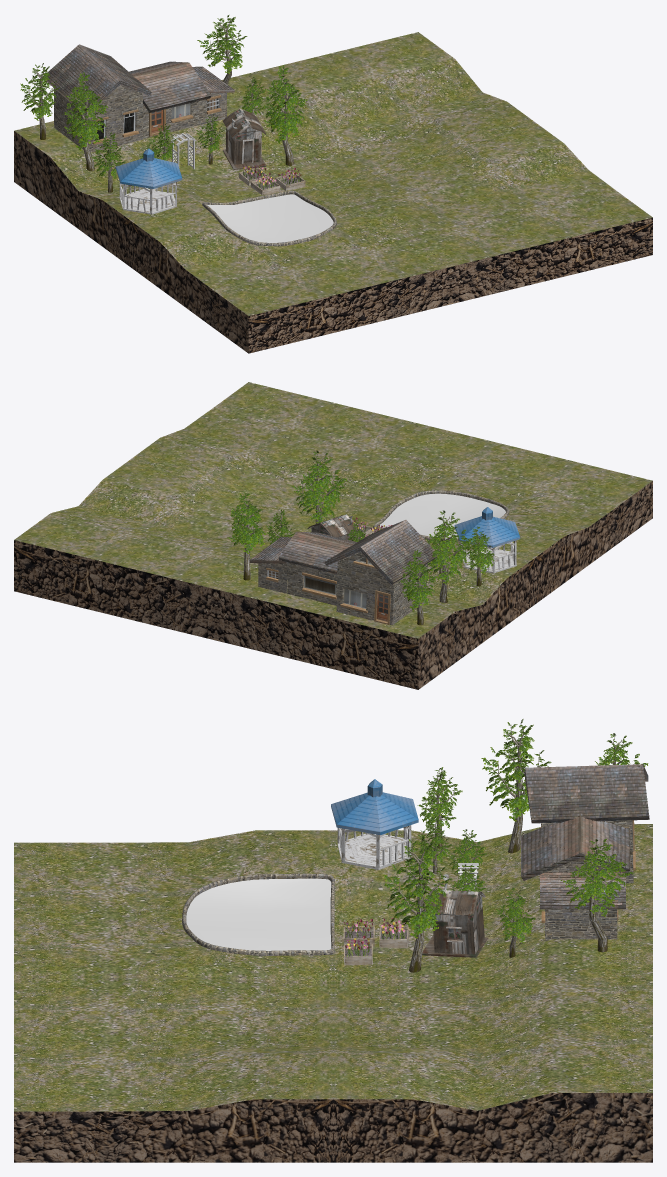
File: Life Cycle Scene 1.fbx
3 renders of one model, top to bottom at view 1: azimuth 30°, elevation 25°; view 2: azimuth 150°, elevation 25°; view 3: azimuth 270°, elevation 25°, orthographic. The views are drawn at different scales.
Parts seen in each view (by area): view 1: Ground, HouseBig, Water, OctagonalHouse, Tree 01, Tree 05, HouseSmall, Tree 03, Tree 04, PondWll, Tree 06, Tree 07 (+3 smaller); view 2: Ground, HouseBig, Water, OctagonalHouse, Tree 01, Tree 05, Tree 03, Tree 04, Tree 06, PondWll, HouseSmall, Tree 02; view 3: Ground, HouseBig, Water, OctagonalHouse, Tree 01, HouseSmall, Tree 05, Tree 03, PondWll, Tree 06, Tree 02, Tree 08 (+5 smaller).
Boxes of the visible parts, x1=… form: Ground: x1=14, y1=32, x2=652, y2=353; HouseBig: x1=42, y1=44, x2=234, y2=152; Water: x1=207, y1=194, x2=333, y2=242; OctagonalHouse: x1=115, y1=148, x2=182, y2=214; Tree 01: x1=261, y1=65, x2=307, y2=165; Tree 05: x1=62, y1=72, x2=107, y2=171; HouseSmall: x1=223, y1=109, x2=266, y2=169; Tree 03: x1=197, y1=15, x2=247, y2=84; Tree 04: x1=20, y1=63, x2=59, y2=139; PondWll: x1=202, y1=190, x2=336, y2=246; Tree 06: x1=90, y1=132, x2=125, y2=192; Tree 07: x1=196, y1=115, x2=224, y2=164; Ground: x1=14, y1=382, x2=652, y2=689; HouseBig: x1=249, y1=520, x2=438, y2=625; Water: x1=378, y1=493, x2=505, y2=538; OctagonalHouse: x1=454, y1=507, x2=520, y2=573; Tree 01: x1=291, y1=450, x2=346, y2=523; Tree 05: x1=425, y1=510, x2=473, y2=602; Tree 03: x1=227, y1=492, x2=265, y2=580; Tree 04: x1=399, y1=550, x2=437, y2=625; Tree 06: x1=465, y1=526, x2=494, y2=586; PondWll: x1=373, y1=490, x2=509, y2=541; HouseSmall: x1=307, y1=514, x2=356, y2=540; Tree 02: x1=266, y1=509, x2=294, y2=544; Ground: x1=14, y1=824, x2=652, y2=1162; HouseBig: x1=520, y1=764, x2=649, y2=940; Water: x1=186, y1=878, x2=331, y2=950; OctagonalHouse: x1=331, y1=779, x2=418, y2=869; Tree 01: x1=382, y1=836, x2=452, y2=972; HouseSmall: x1=422, y1=874, x2=487, y2=957; Tree 05: x1=481, y1=719, x2=551, y2=853; Tree 03: x1=560, y1=839, x2=633, y2=952; PondWll: x1=182, y1=873, x2=334, y2=955; Tree 06: x1=417, y1=767, x2=462, y2=848; Tree 02: x1=496, y1=887, x2=535, y2=957; Tree 08: x1=446, y1=829, x2=486, y2=890.
Size of the model in its own units: 26.58 by 8.72 by 26.64.
